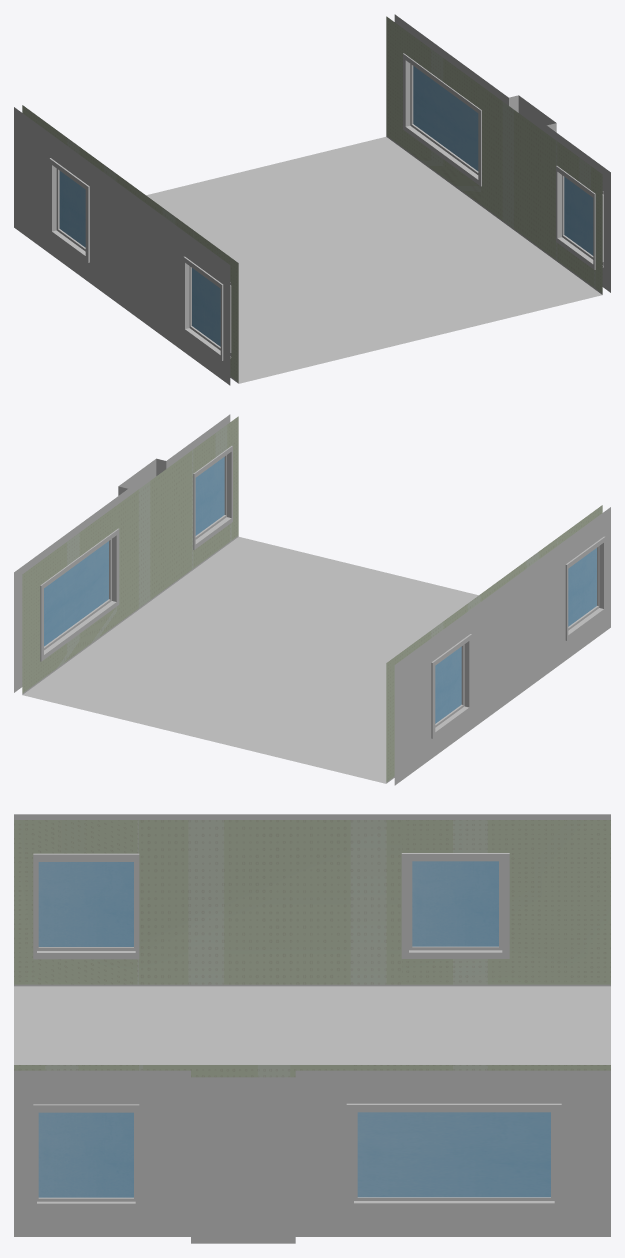
File: FloorFirst_B.fbx
The picture shows the model from 3 angles, top to bottom: view 1: azimuth 30°, elevation 25°; view 2: azimuth 150°, elevation 25°; view 3: azimuth 270°, elevation 25°; orthographic projection. The views are drawn at different scales.
Parts seen in each view (by area): view 1: Floor_00_B; view 2: Floor_00_B; view 3: Floor_00_B.
Boxes of the visible parts, left/top/right/bottom form: Floor_00_B: left=14, top=14, right=610, bottom=385; Floor_00_B: left=14, top=414, right=610, bottom=785; Floor_00_B: left=14, top=814, right=610, bottom=1243.
Bounding box in the file's own units: 1184 × 350 × 1133.
